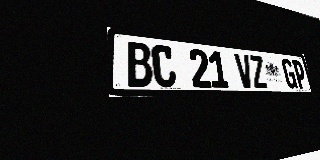1: (207, 50, 229, 88)
2: (188, 48, 212, 87)
B: (126, 41, 153, 87)
C: (151, 44, 177, 87)
G: (280, 59, 298, 88)
P: (291, 60, 308, 88)
V: (234, 53, 255, 88)
Z: (249, 55, 268, 88)
